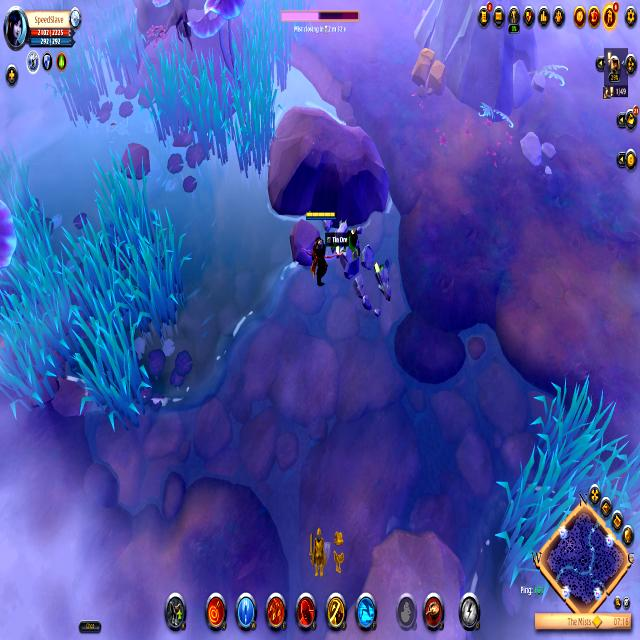player: (320, 199, 394, 325)
red: (301, 206, 338, 292)
tree: (408, 43, 449, 103)
